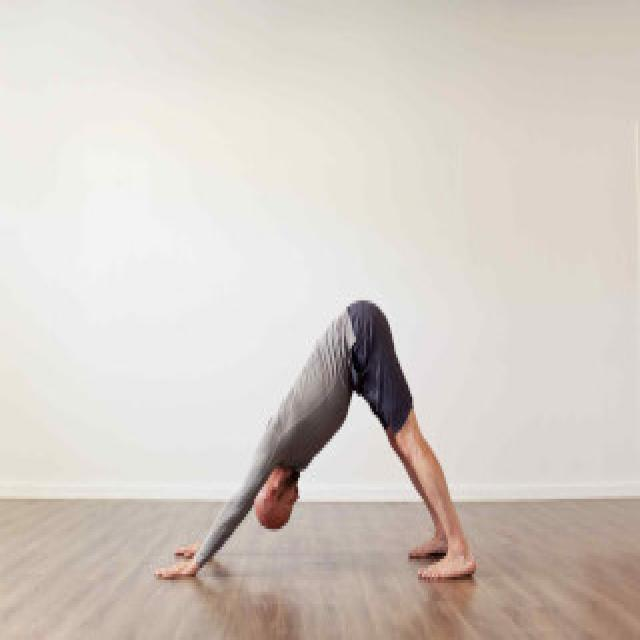yoga-pose downward: (157, 299, 482, 589)
